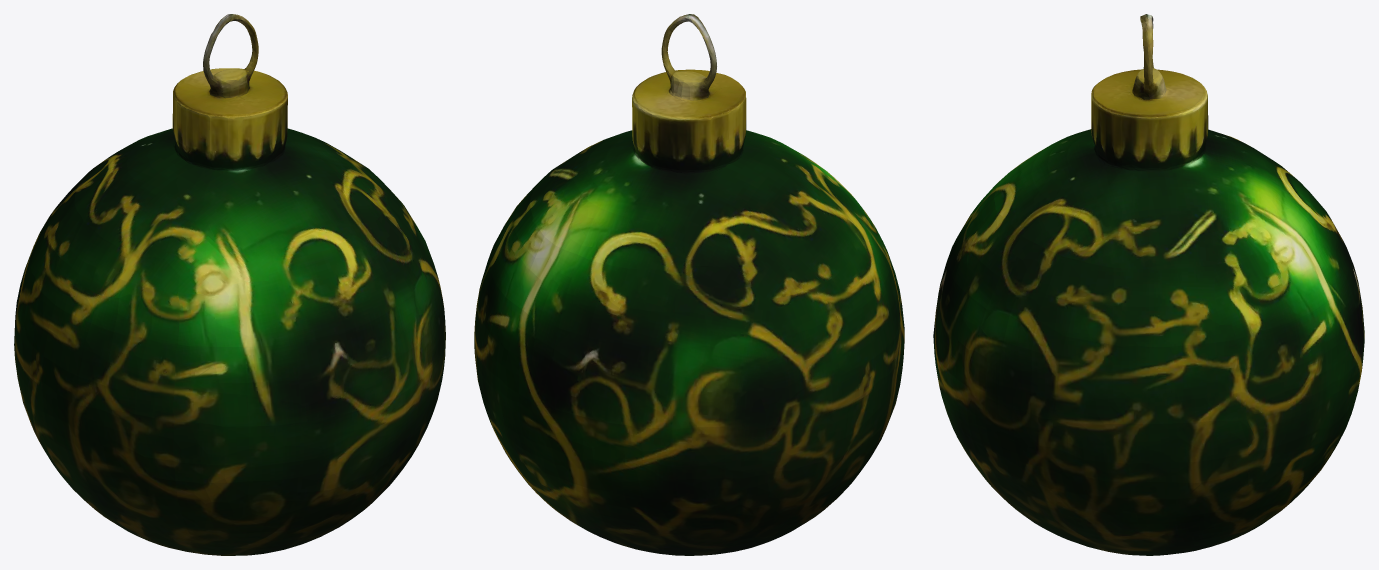
3 views of the same model, side by side, from view 1: azimuth 30°, elevation 25°; view 2: azimuth 150°, elevation 25°; view 3: azimuth 270°, elevation 25° (orthographic).
Visible parts, largest first — view 1: world; view 2: world; view 3: world.
Boxes of the visible parts, x1=… form: world: x1=14, y1=14, x2=445, y2=555; world: x1=474, y1=14, x2=904, y2=555; world: x1=933, y1=14, x2=1364, y2=555.
Size of the model in its own units: 0.752 by 0.9956 by 0.7519.
1 material, 1 textured.
